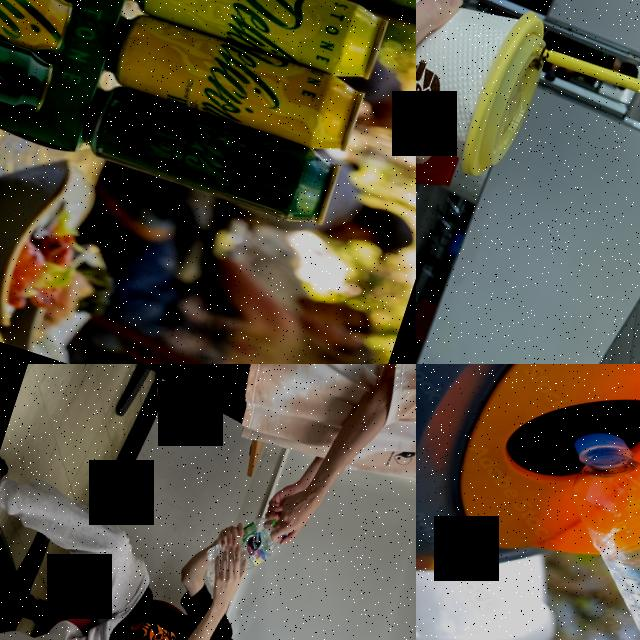bottle: (494, 420, 640, 640), (200, 510, 288, 606), (202, 501, 278, 580)
can: (100, 8, 369, 160), (78, 80, 343, 232), (126, 0, 393, 88)
cup: (416, 0, 558, 188)
